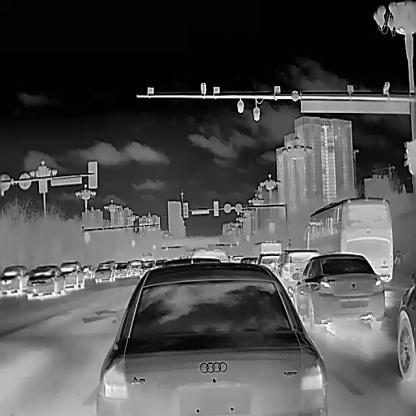bus: (299, 196, 391, 284), (252, 238, 282, 262)
car: (92, 258, 329, 416), (291, 252, 384, 329), (268, 249, 322, 293), (396, 271, 416, 382), (26, 260, 66, 297), (0, 264, 29, 294), (59, 258, 85, 290), (250, 251, 284, 274), (192, 246, 229, 261), (94, 260, 115, 282), (139, 258, 156, 278), (80, 262, 96, 278), (114, 260, 128, 277), (128, 258, 142, 274), (241, 256, 256, 263), (232, 254, 242, 262)
